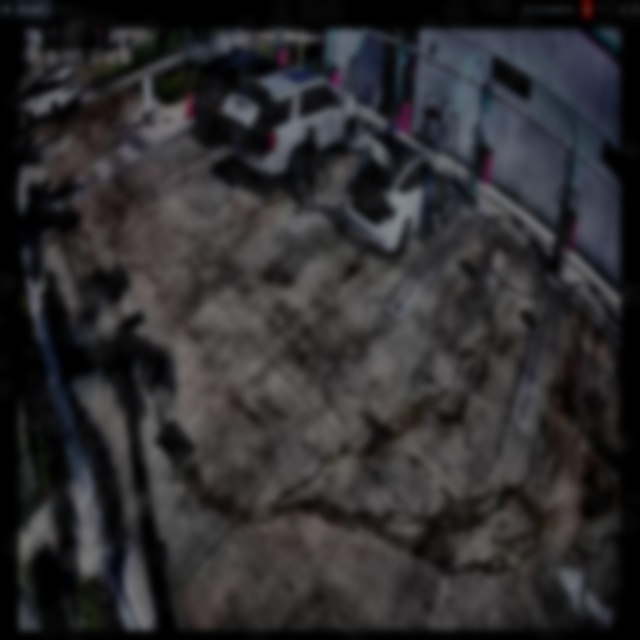Car: (231, 74, 357, 185), (345, 131, 449, 251), (193, 55, 296, 156)
